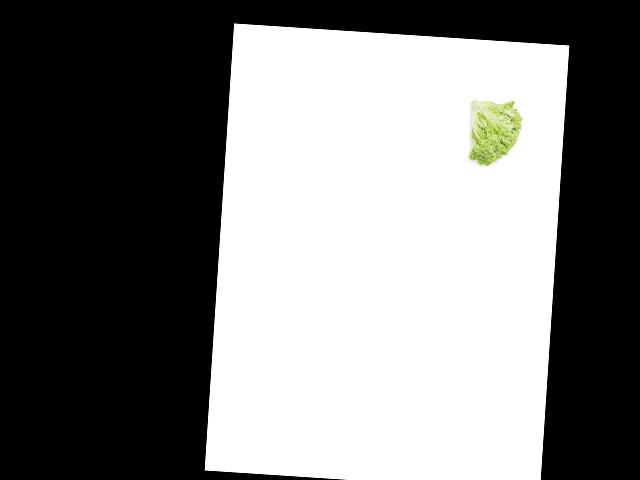lettuce: (461, 95, 527, 171)
